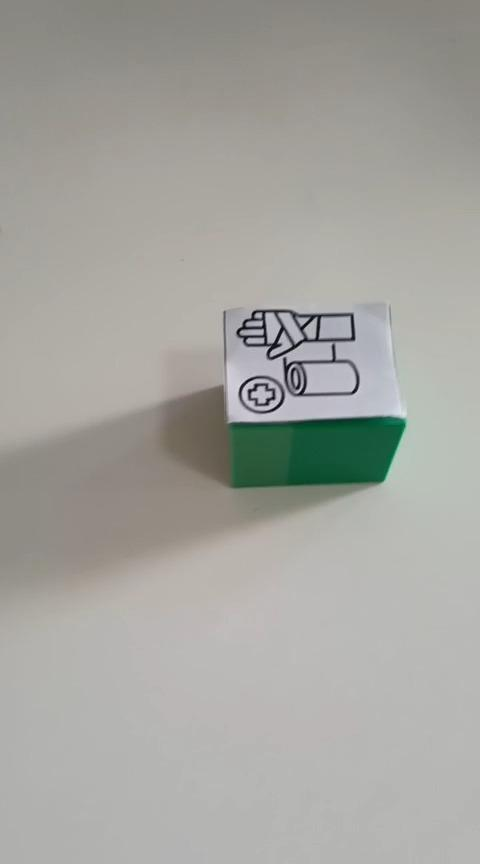Bandages: (221, 299, 407, 488)
